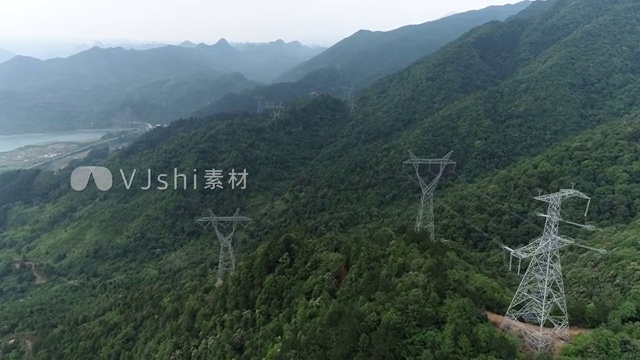tower_body: (498, 180, 599, 351), (394, 146, 460, 239), (194, 205, 262, 282)
tower_foot: (505, 292, 578, 349), (414, 211, 438, 235), (217, 258, 237, 278)
tower_head: (401, 151, 456, 191), (197, 208, 255, 241), (525, 187, 595, 208)
